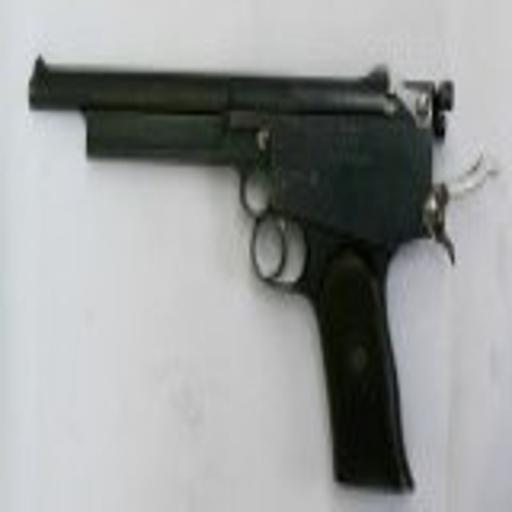Handgun: (27, 50, 466, 498)
